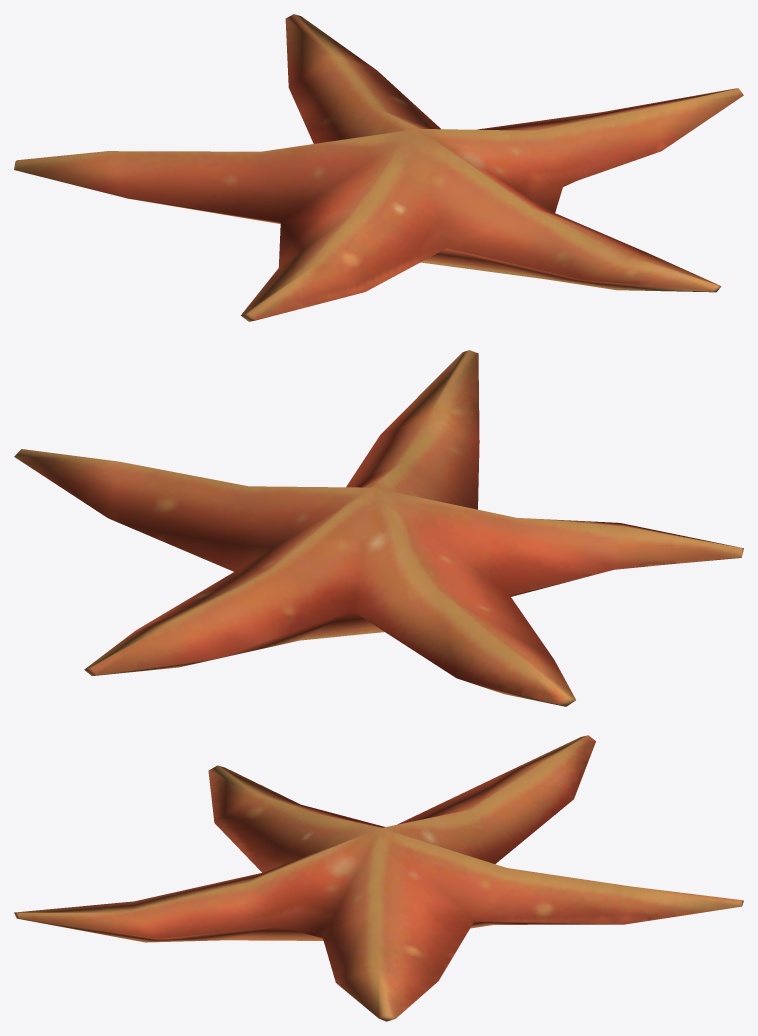
File: P_Beach_Starfish.obj
3 renders of one model, top to bottom at view 1: azimuth 30°, elevation 25°; view 2: azimuth 150°, elevation 25°; view 3: azimuth 270°, elevation 25°, orthographic. The views are drawn at different scales.
Bounding box in the file's own units: 0.5863 × 0.1159 × 0.637.
